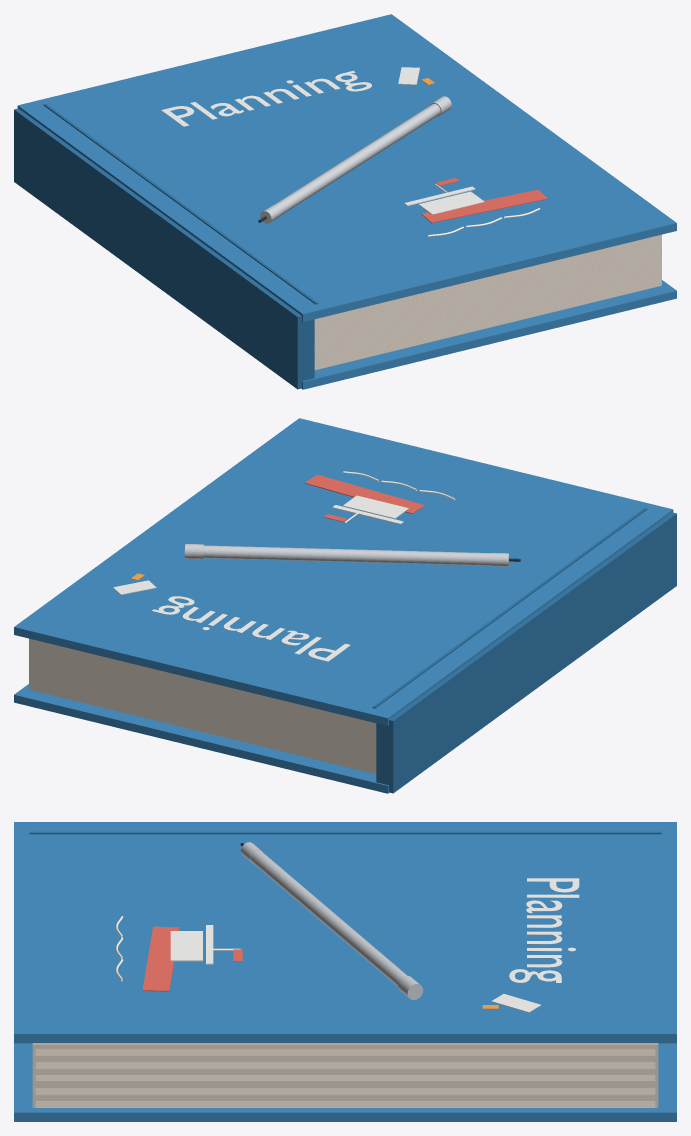
Rendered from planning_book_3d.glb.
The picture shows the model from 3 angles, top to bottom: view 1: azimuth 30°, elevation 25°; view 2: azimuth 150°, elevation 25°; view 3: azimuth 270°, elevation 25°; orthographic projection. The views are drawn at different scales.
Parts seen in each view (by area): view 1: Top Royal Blue Hardcover, Rounded Blue Book Spine, Thick Cream Paper Block, Bottom Blue Hardcover, Metallic Pencil Barrel, Planning White Cover Title, Red Boat Hull, Spine Fabric Ridge, Boat White Cabin; view 2: Top Royal Blue Hardcover, Rounded Blue Book Spine, Thick Cream Paper Block, Bottom Blue Hardcover, Metallic Pencil Barrel, Planning White Cover Title, Red Boat Hull, Spine Fabric Ridge, Boat White Cabin; view 3: Top Royal Blue Hardcover, Thick Cream Paper Block, Bottom Blue Hardcover, Metallic Pencil Barrel, Spine Fabric Ridge, Planning White Cover Title, Red Boat Hull, Boat White Cabin, Right Page Line 006, Right Page Line 019, Right Page Line 046, Right Page Line 059 (+61 smaller).
Part boxes in pixels (box(x1,y1,x2,y2)): Top Royal Blue Hardcover: box(17, 14, 676, 321); Rounded Blue Book Spine: box(14, 108, 314, 389); Thick Cream Paper Block: box(314, 234, 661, 370); Bottom Blue Hardcover: box(302, 280, 676, 389); Metallic Pencil Barrel: box(274, 104, 440, 215); Planning White Cover Title: box(161, 70, 371, 126); Red Boat Hull: box(421, 189, 547, 223); Spine Fabric Ridge: box(43, 103, 318, 304); Boat White Cabin: box(418, 191, 484, 214); Top Royal Blue Hardcover: box(14, 418, 673, 725); Rounded Blue Book Spine: box(376, 512, 676, 793); Thick Cream Paper Block: box(29, 638, 376, 774); Bottom Blue Hardcover: box(14, 684, 388, 793); Metallic Pencil Barrel: box(203, 545, 491, 565); Planning White Cover Title: box(152, 596, 350, 661); Red Boat Hull: box(304, 474, 424, 513); Spine Fabric Ridge: box(372, 507, 647, 708); Boat White Cabin: box(343, 495, 408, 518); Top Royal Blue Hardcover: box(14, 822, 676, 1043); Thick Cream Paper Block: box(32, 1043, 658, 1107); Bottom Blue Hardcover: box(14, 1043, 676, 1121); Metallic Pencil Barrel: box(250, 850, 406, 986); Spine Fabric Ridge: box(29, 831, 661, 834); Planning White Cover Title: box(509, 878, 579, 982); Red Boat Hull: box(142, 926, 179, 991); Boat White Cabin: box(170, 931, 202, 961); Right Page Line 006: box(35, 1101, 655, 1101); Right Page Line 019: box(35, 1088, 655, 1088); Right Page Line 046: box(35, 1062, 655, 1062); Right Page Line 059: box(35, 1049, 655, 1049).
Size of what is drawn, in the model's own units: 3.78 by 0.8575 by 4.93.
